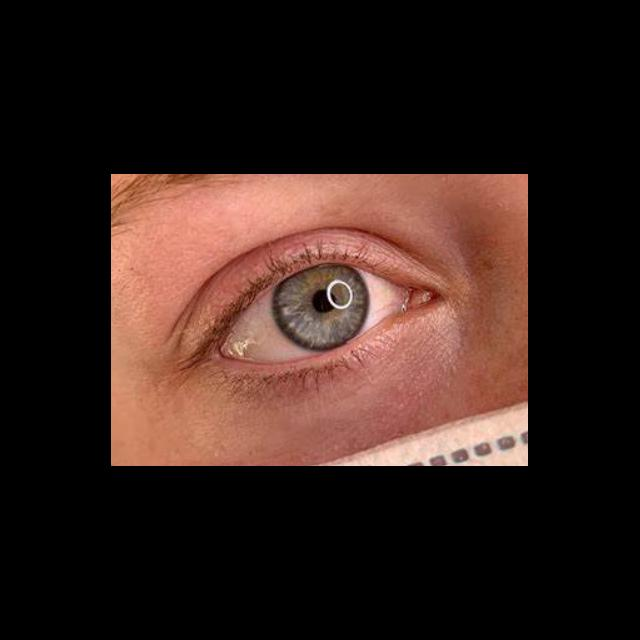eye: (222, 262, 409, 365)
iris: (276, 265, 369, 349)
